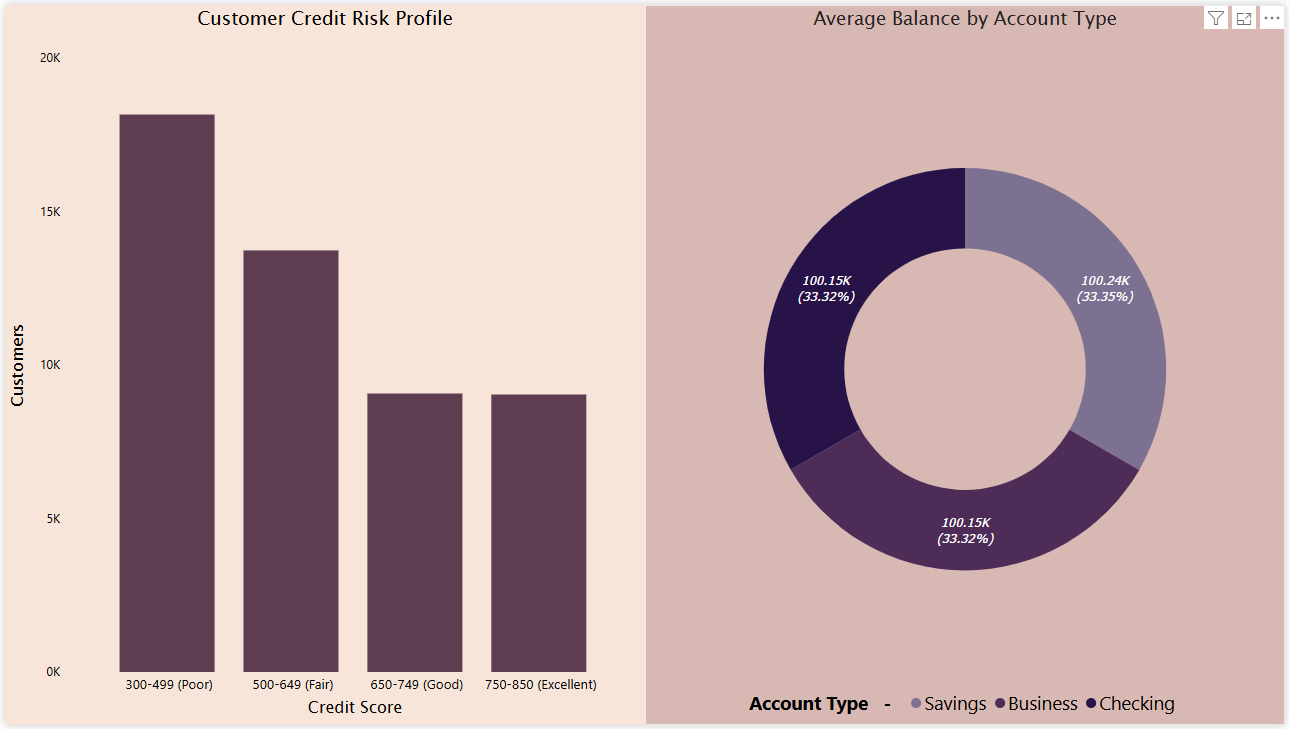

The page's visual inventory and layout, read from the dashboard file:
{"tool":"powerbi","page":{"name":"Page 2","canvas":[1280,720],"ordinal":1},"visuals":[{"type":"clusteredColumnChart","title":"Customer Credit Risk Profile","fields":{"Category":["vw_credit_score_bands.score_band"],"Y":["Sum(vw_credit_score_bands.num_customers)"]},"box":[0,0,640,719.8],"z":0},{"type":"donutChart","title":"Average Balance by Account Type","fields":{"Category":["vw_account_summary.account_type"],"Y":["Sum(vw_account_summary.avg_balance)"]},"box":[640,0,640,719.8],"z":1000}]}

Visuals, with their boxes in screenshot pixels (x1, y1, x2, y2), scaled from the page's 1280x720 canvas onto the 1289x729 screenshot:
"Customer Credit Risk Profile" clusteredColumnChart: rect(0, 0, 644, 728)
"Average Balance by Account Type" donutChart: rect(644, 0, 1288, 728)
